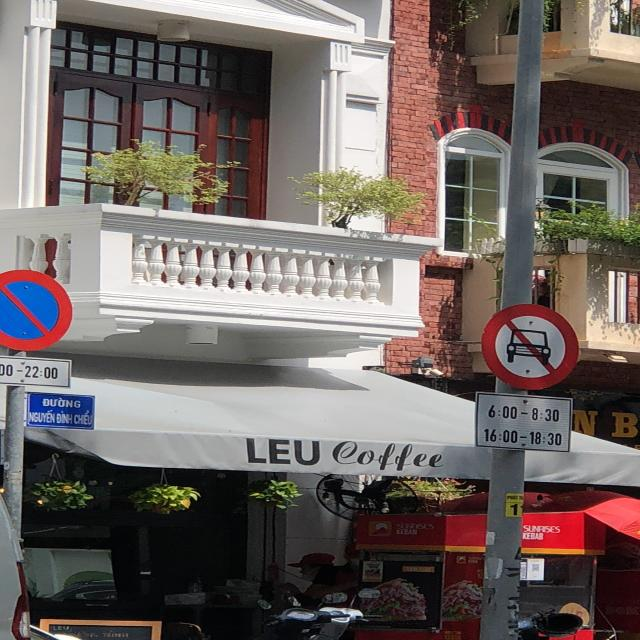Bien bao cam do xe: (0, 262, 88, 356)
Bien bao cam xe oto: (467, 294, 604, 393)
